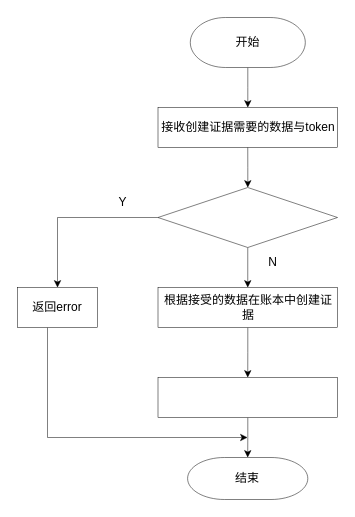
Image size: 355x517. Some labels were removed from this diagram. The centre of each missing label's shape, as x and y in pixels:
"token是否过期" goes at pixel 247 217.
"返回处理结果" goes at pixel 247 397.
